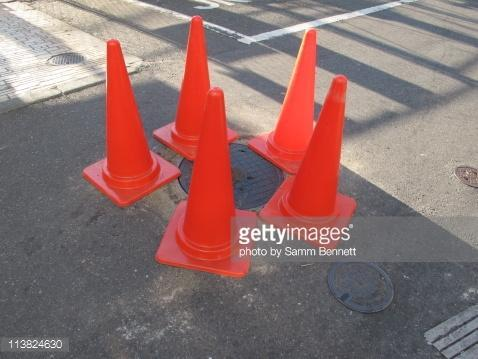Cone: (158, 89, 257, 280), (259, 75, 354, 258), (83, 38, 180, 205), (156, 16, 245, 164), (252, 30, 336, 173)
